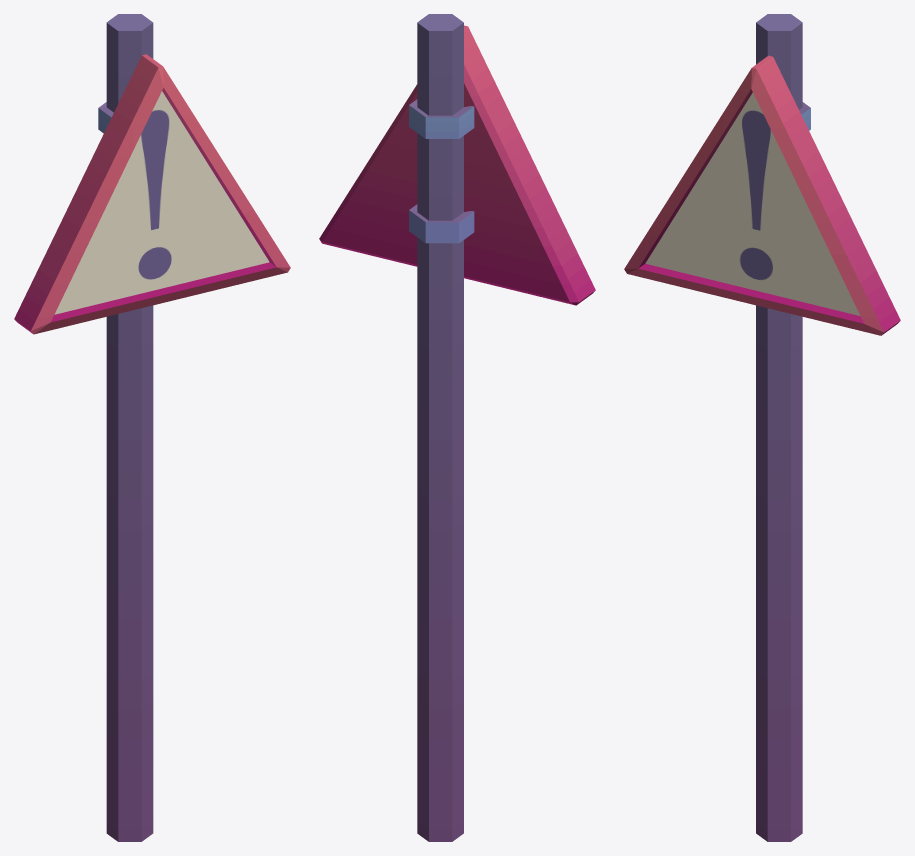
Rendered from sign_2.gltf.
The picture shows the model from 3 angles, left to right: view 1: azimuth 30°, elevation 25°; view 2: azimuth 150°, elevation 25°; view 3: azimuth 330°, elevation 25°; orthographic projection.
Parts seen in each view (by area): view 1: Object_46, Object_47; view 2: Object_46; view 3: Object_46, Object_47.
Part boxes in pixels (x1,y1,x2,y2): Object_46: (14,14,290,841); Object_47: (54,91,269,314); Object_46: (319,14,595,841); Object_46: (624,14,900,841); Object_47: (645,92,860,315).
Bounding box in the file's own units: 3.99 × 11.87 × 1.21.
2 materials, 2 textured.
